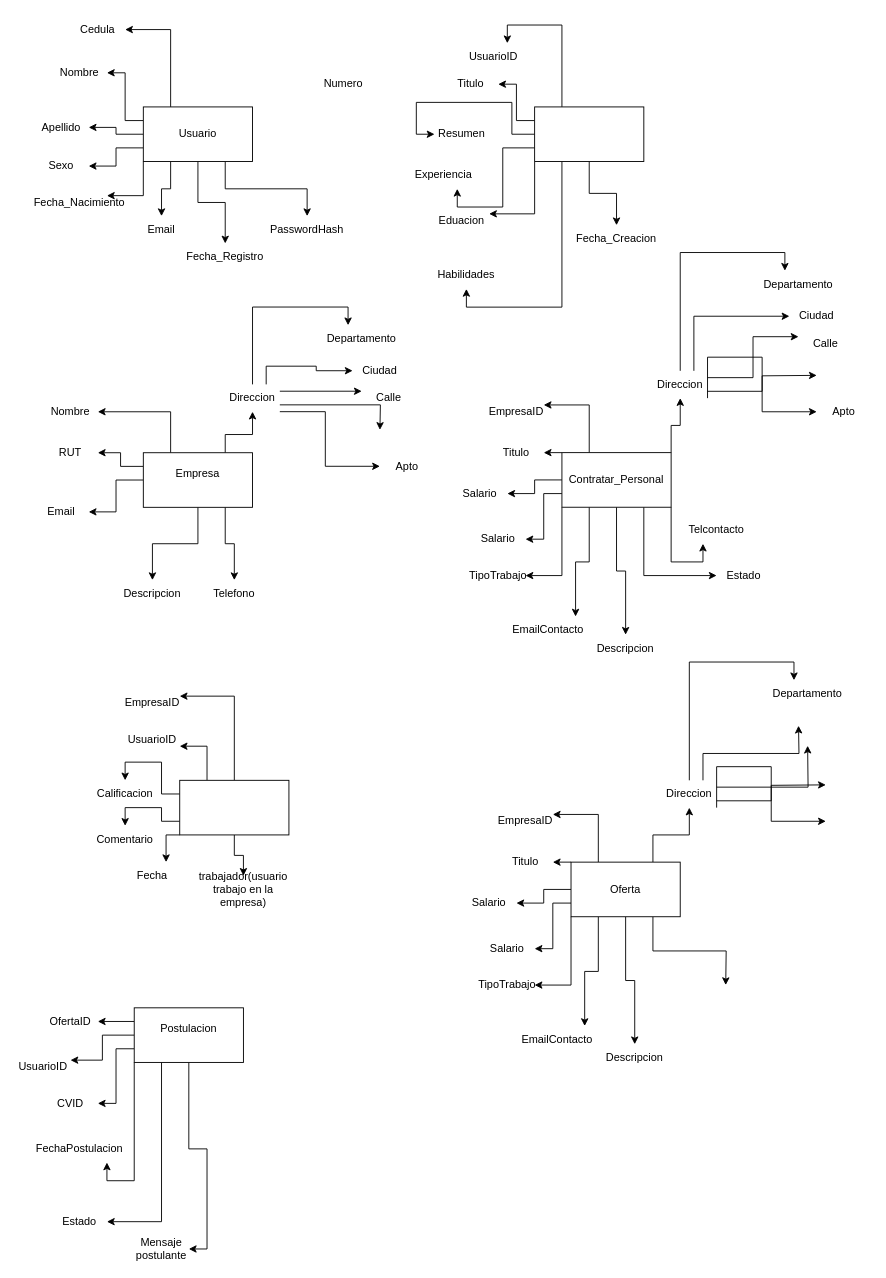
This 886x1278 diagram has some shape labels left out. The box of each missing label's shape, as (x1, y1, x2, y2) in pixels:
CV: (534, 106, 644, 162)
Evaluacion_Empresa: (179, 779, 289, 835)
